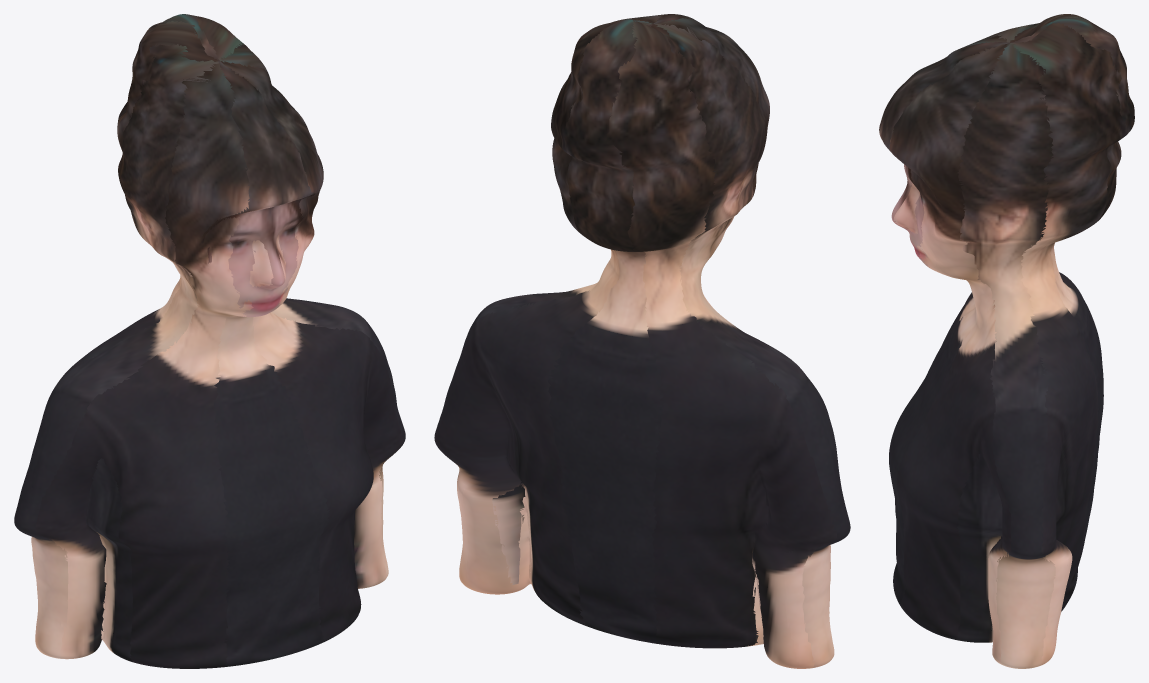
The model's file is mako.glb.
3 views of the same model, side by side, from view 1: azimuth 30°, elevation 25°; view 2: azimuth 150°, elevation 25°; view 3: azimuth 270°, elevation 25° (orthographic). The views are drawn at different scales.
Parts seen in each view (by area): view 1: geometry_0; view 2: geometry_0; view 3: geometry_0.
Part boxes in pixels (<box>): geometry_0: <box>14,14,405,668</box>; geometry_0: <box>434,14,850,668</box>; geometry_0: <box>879,14,1134,668</box>.
Bounding box in the file's own units: 2.59 × 3.72 × 1.51.
1 material, 1 textured.
